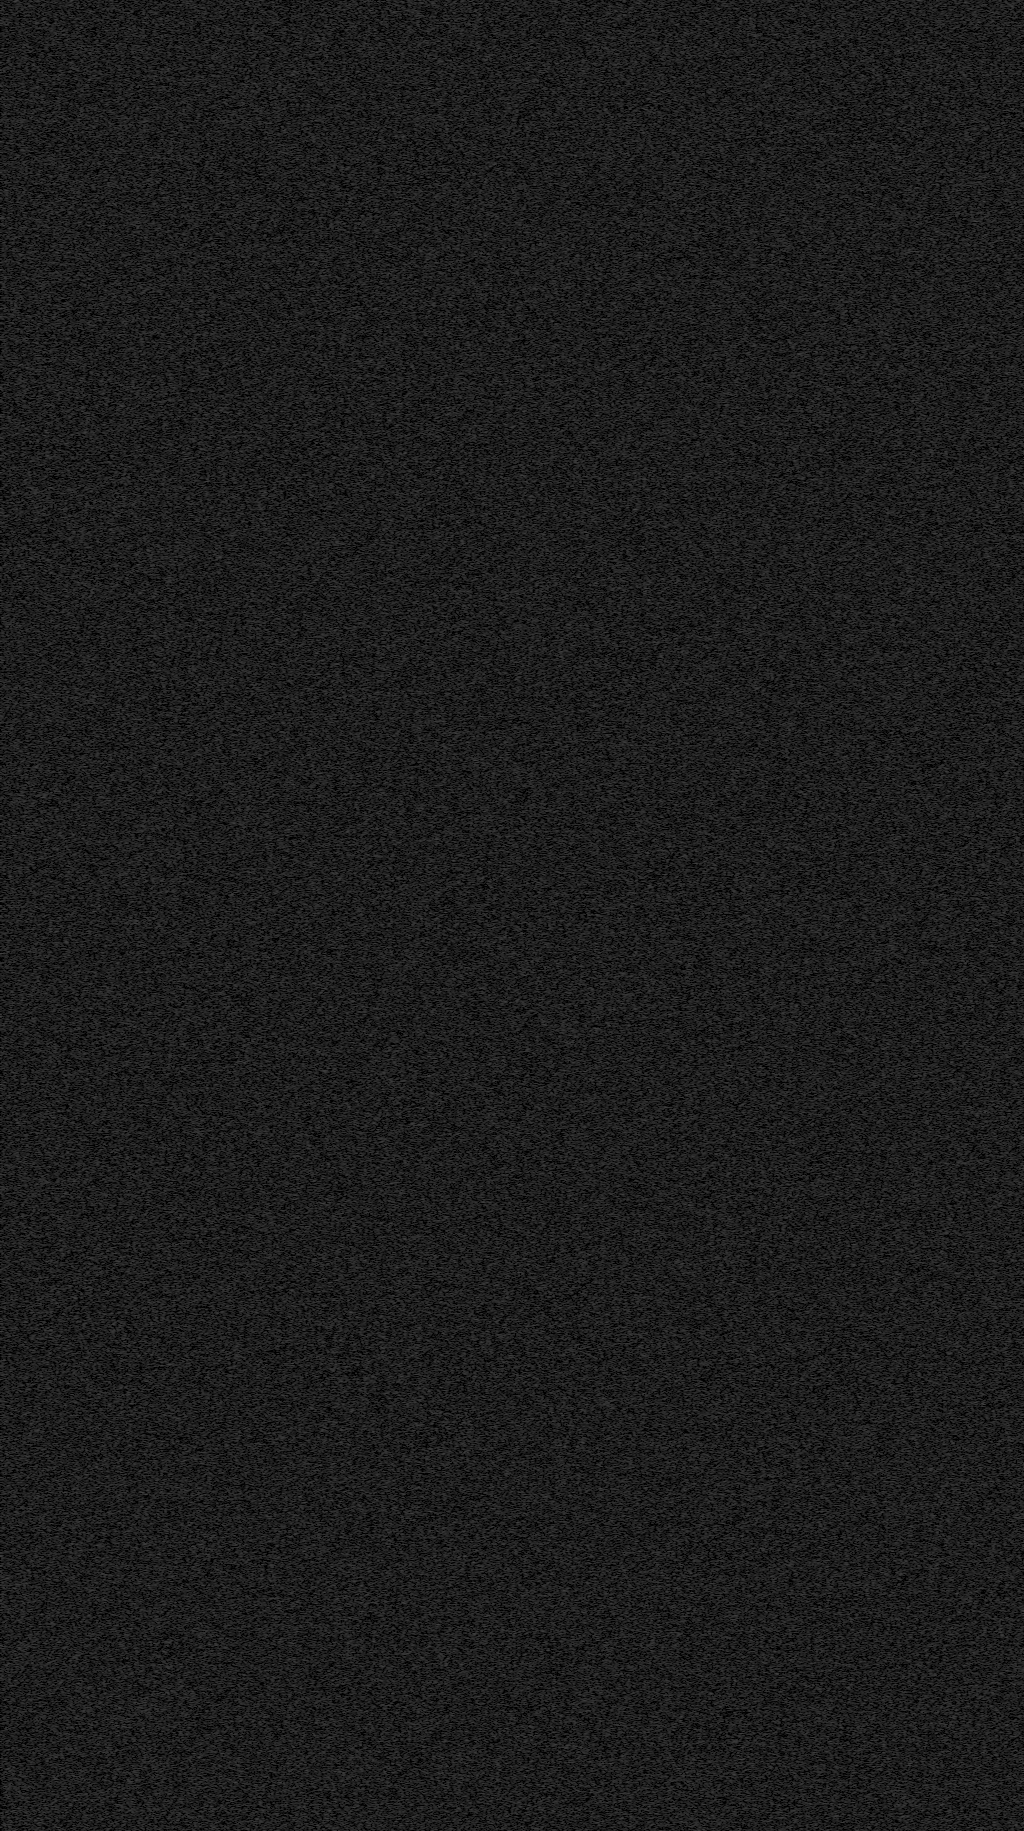wv_am: (143, 1, 148, 1830)
wv_cw: (468, 1, 474, 1830)
wv_usb: (270, 802, 275, 1119), (270, 1574, 275, 1801), (270, 13, 275, 239), (270, 294, 275, 516), (270, 655, 275, 794), (270, 1351, 275, 1458), (270, 1486, 275, 1564), (270, 516, 275, 550), (270, 586, 275, 616), (270, 551, 275, 578), (272, 1188, 275, 1222), (272, 1134, 275, 1164), (270, 270, 275, 293), (270, 1802, 275, 1821), (272, 1269, 275, 1289), (270, 617, 275, 633), (270, 1320, 275, 1333), (270, 1473, 275, 1485), (270, 260, 275, 270), (270, 1459, 275, 1468), (272, 1176, 275, 1187), (270, 1822, 275, 1830), (270, 1342, 275, 1349), (272, 1164, 275, 1175), (270, 253, 275, 259), (270, 240, 275, 246), (270, 634, 275, 639), (270, 580, 275, 585), (270, 246, 275, 252), (270, 1468, 275, 1473), (272, 1336, 275, 1341), (272, 1263, 275, 1268), (272, 646, 275, 651), (272, 1229, 275, 1232), (272, 1126, 275, 1129), (272, 1564, 275, 1568), (270, 799, 275, 801), (272, 1120, 275, 1123), (272, 1569, 275, 1572)
